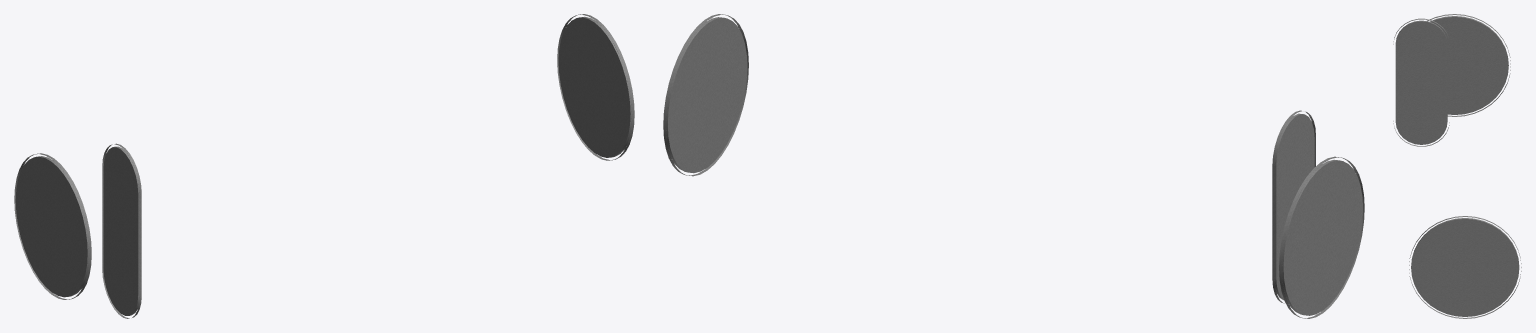
3 views of the same model, side by side, from view 1: azimuth 30°, elevation 25°; view 2: azimuth 150°, elevation 25°; view 3: azimuth 270°, elevation 25° (orthographic). The views are drawn at different scales.
Size of the model in its own units: 3.41 by 0.9971 by 0.91.
1 material, 1 textured.
